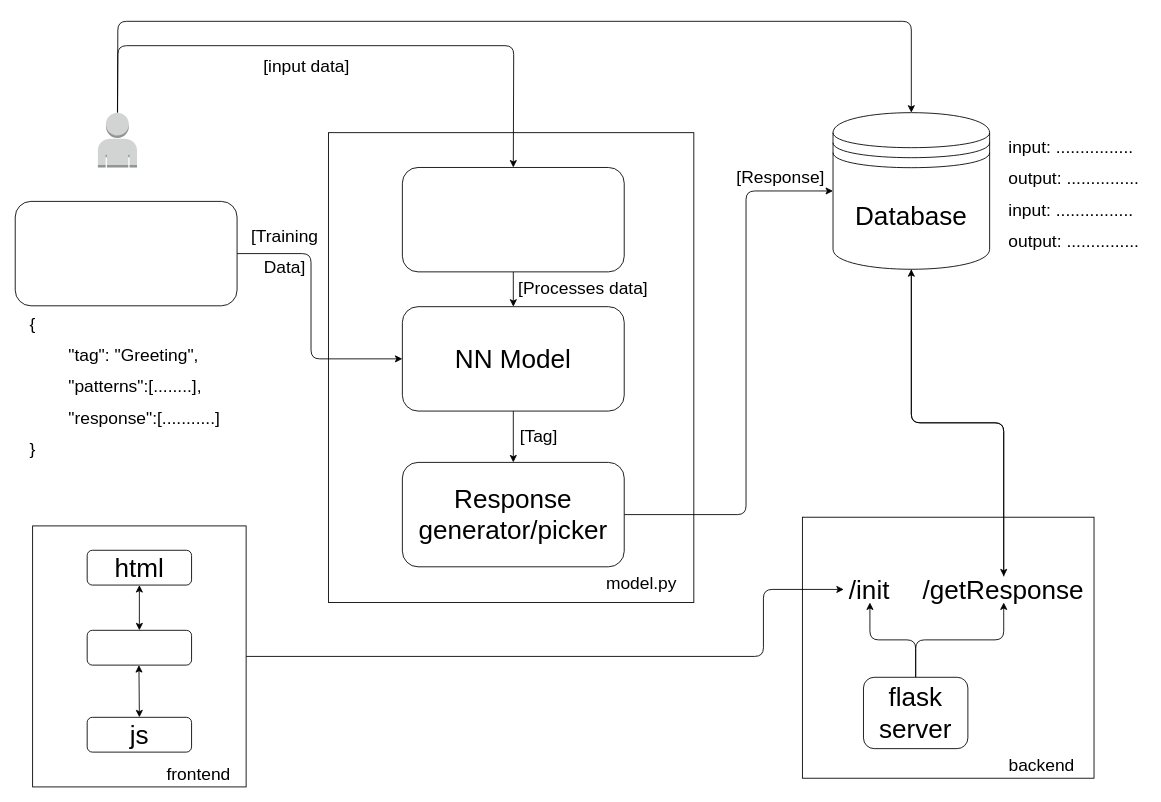
This 1161x802 diagram has some shape labels left out. Here are the shapes that lost their labels. From the top down, the centre of each, then its label:
the point at 513,219: Data Preprocessing
the point at 125,253: response.json
the point at 139,647: css
